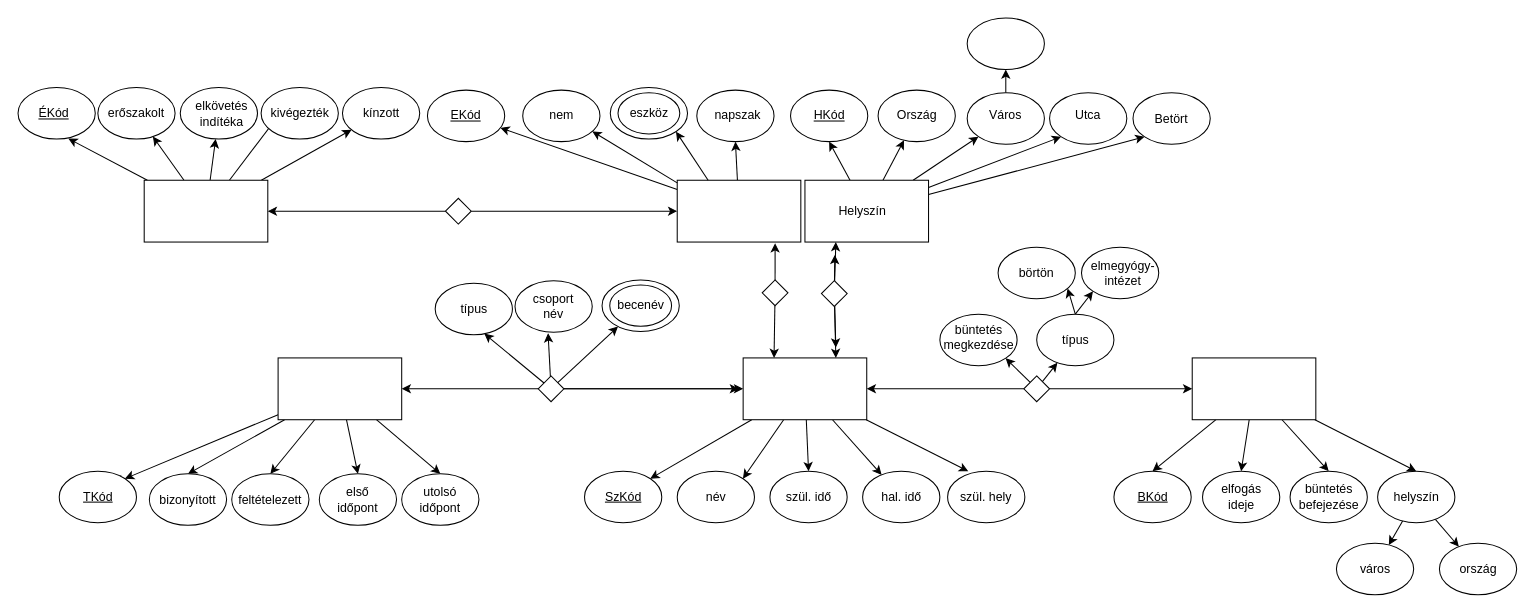
This 1535x613 diagram has some shape labels left out. Here are the shapes that lost their labels. From the top down, the centre of each, then its label:
At [1005,43]: "Városrész".
At [205,210]: "Érdekességek".
At [738,210]: "Elkövetés módja".
At [339,388]: "Tevékenység".
At [804,388]: "Személyek".
At [1253,388]: "Büntetés".
